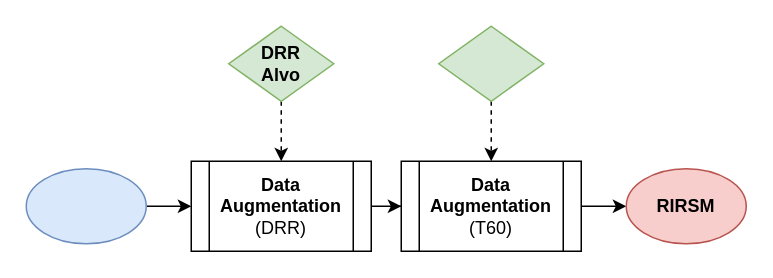
This 773x278 diagram has some shape labels left out. The shapes that lost their labels are listed below. From the top down, each one's box as (x1, y1, x2, y2) in pixels, then its label:
(437, 25, 544, 101): T60 Alvo
(25, 167, 146, 244): RIRO
